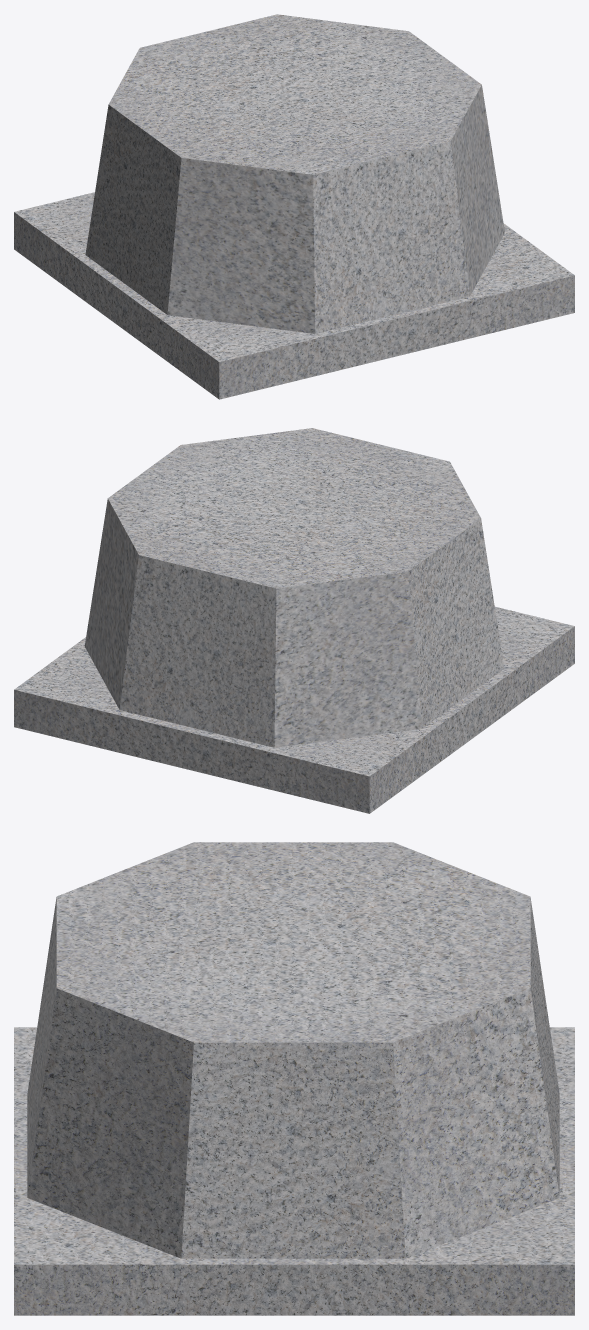
3 views of the same model, one above another, from view 1: azimuth 30°, elevation 25°; view 2: azimuth 150°, elevation 25°; view 3: azimuth 270°, elevation 25° (orthographic). The views are drawn at different scales.
Visible parts, largest first — view 1: SM_S_Circle_2; view 2: SM_S_Circle_2; view 3: SM_S_Circle_2.
Part boxes in pixels (x1=…): SM_S_Circle_2: x1=14, y1=14, x2=574, y2=399; SM_S_Circle_2: x1=14, y1=428, x2=574, y2=813; SM_S_Circle_2: x1=14, y1=842, x2=574, y2=1315.
Bounding box in the file's own units: 93.81 × 93.81 × 47.07.
1 material, 1 textured.
